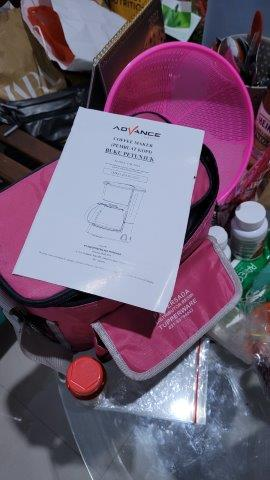kertas: (13, 106, 205, 315)
